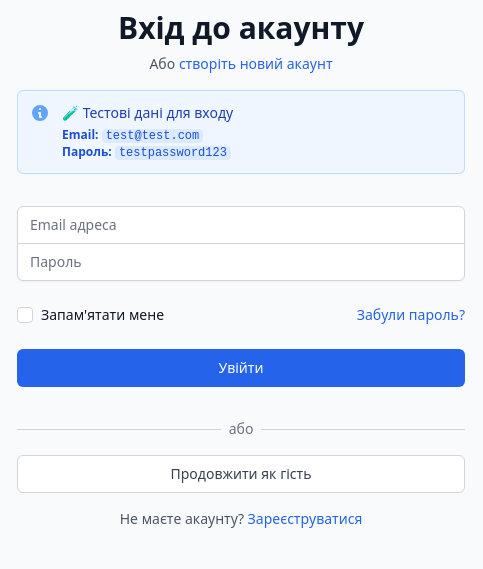
LoginPage Component › Form Validation › shows validation error for short password
Type "test@test.com" into the field labelled "Email адреса". click: (241, 225)
box: [17, 206, 465, 244]
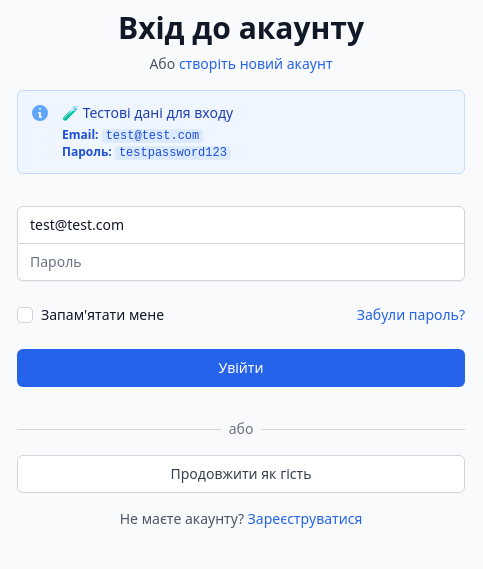
Type "123" into the password field labelled "Пароль". click: (241, 262)
box: [17, 243, 465, 281]
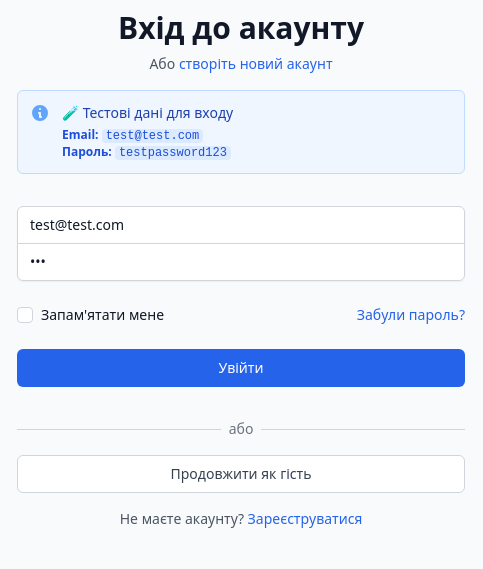
Click the button "Увійти". click: click(241, 368)
box: [17, 349, 465, 387]
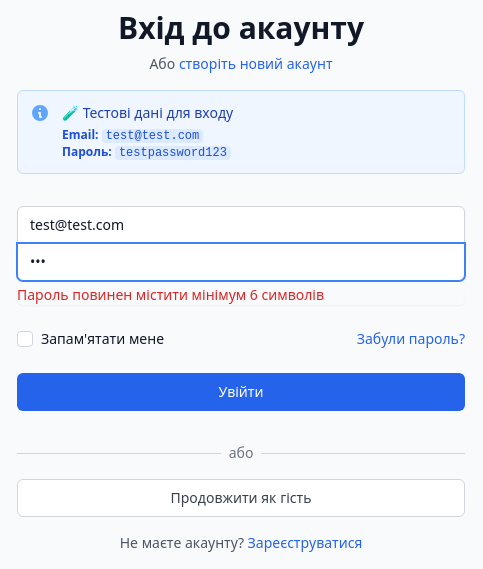
Result: the text "Пароль повинен містити мінімум 6 символів" is shown at [17, 285, 324, 304]
